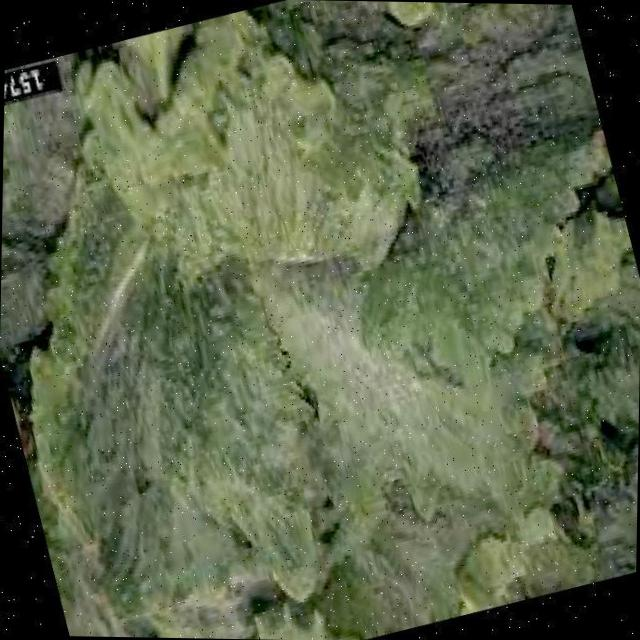Powdery_Mildew: (173, 186, 514, 542)
